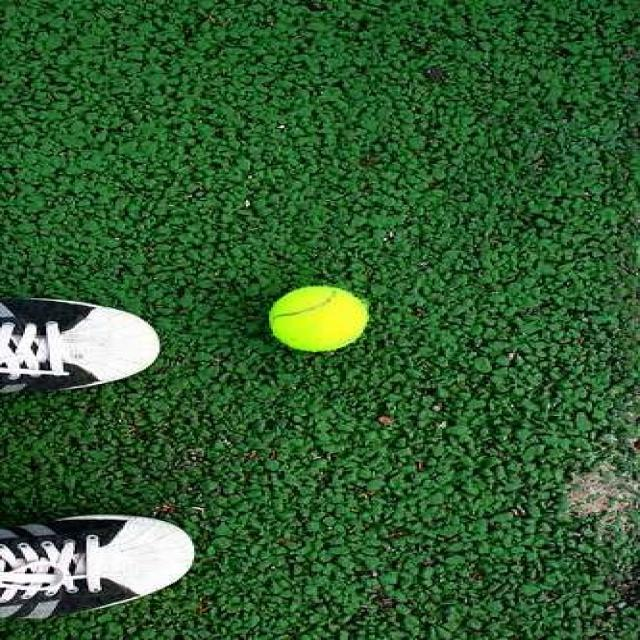Tennis_Ball: (272, 288, 365, 355)
